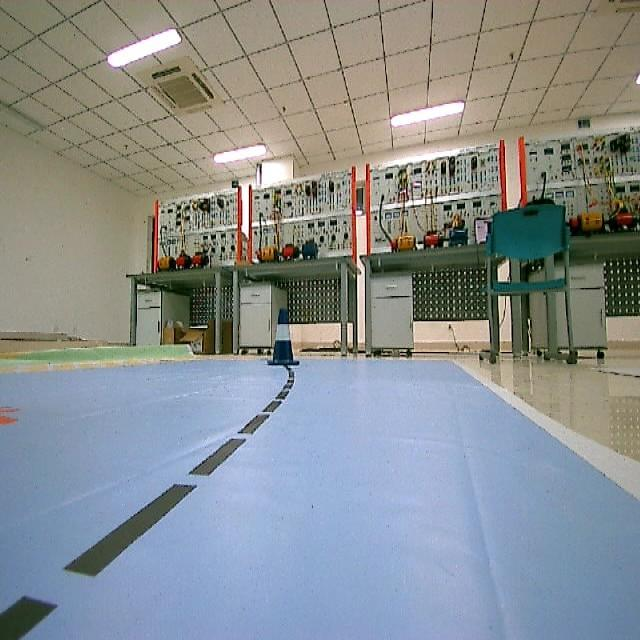obstacle: (259, 301, 304, 378)
